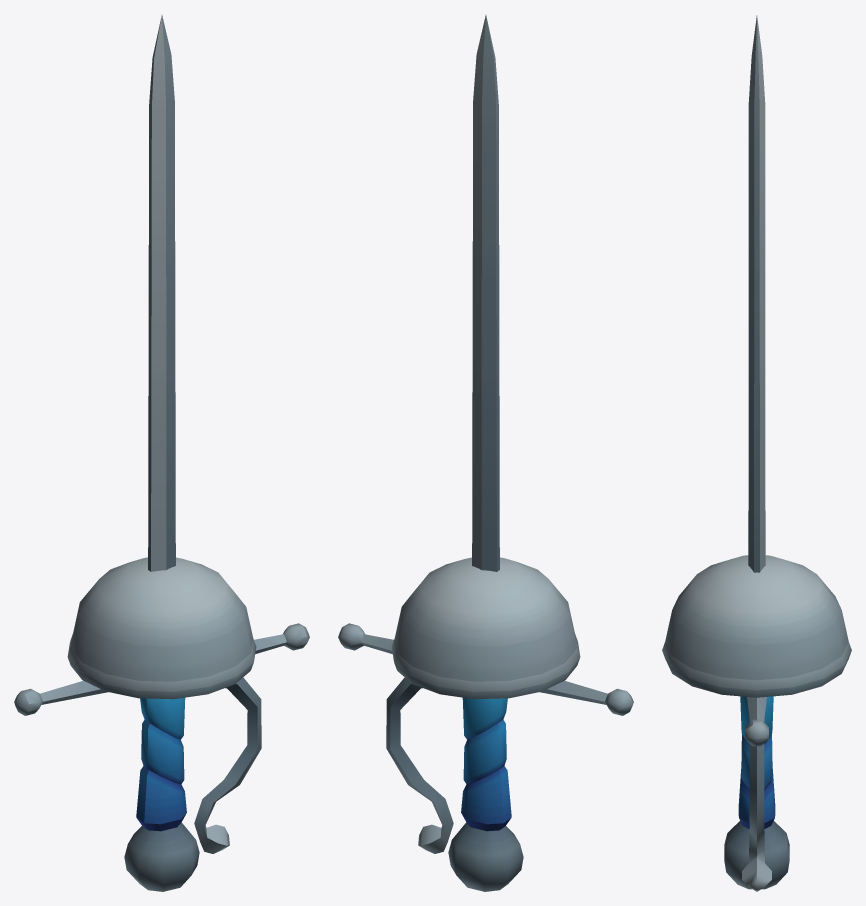
Rendered from sword_d.dab13dbc.glb.
The picture shows the model from 3 angles, left to right: view 1: azimuth 30°, elevation 25°; view 2: azimuth 150°, elevation 25°; view 3: azimuth 270°, elevation 25°; orthographic projection.
Parts seen in each view (by area): view 1: sword_D; view 2: sword_D; view 3: sword_D.
Boxes of the visible parts, x1,y1,x2,y2 form: sword_D: (14,15,309,891); sword_D: (338,15,633,891); sword_D: (662,15,851,891).
Bounding box in the file's own units: 0.7149 × 2.04 × 0.4015.
Materials: 1 (1 with a texture image).
